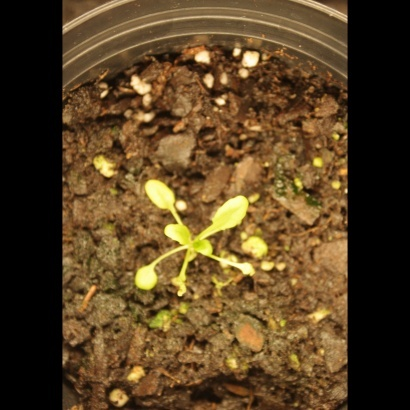leaf: (206, 187, 252, 234), (140, 172, 181, 215), (131, 261, 163, 299), (160, 220, 192, 251), (190, 235, 214, 265)
